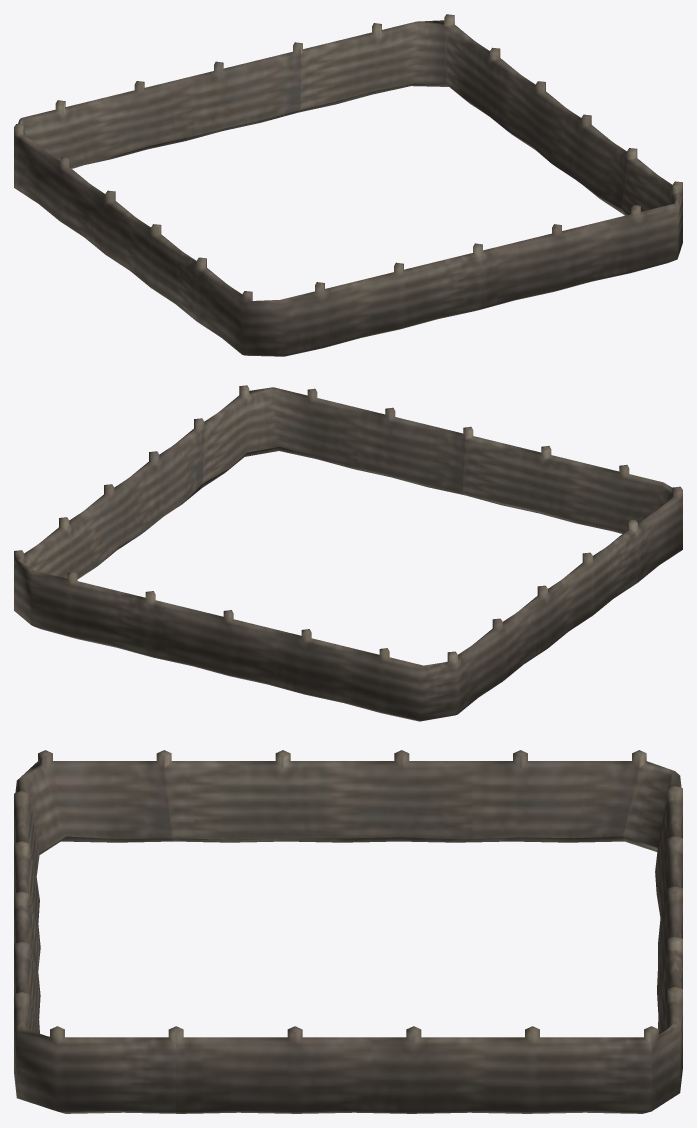
File: farmbed_empty.glb
3 views of the same model, one above another, from view 1: azimuth 30°, elevation 25°; view 2: azimuth 150°, elevation 25°; view 3: azimuth 270°, elevation 25° (orthographic). The views are drawn at different scales.
Parts seen in each view (by area): view 1: farm_props_bed_1a_empty; view 2: farm_props_bed_1a_empty; view 3: farm_props_bed_1a_empty.
Part boxes in pixels (bbox=[...]): farm_props_bed_1a_empty: bbox=[14, 14, 682, 356]; farm_props_bed_1a_empty: bbox=[14, 385, 682, 721]; farm_props_bed_1a_empty: bbox=[14, 750, 682, 1113].
Bounding box in the file's own units: 5.12 × 0.7389 × 5.12.
Materials: 1 (1 with a texture image).
